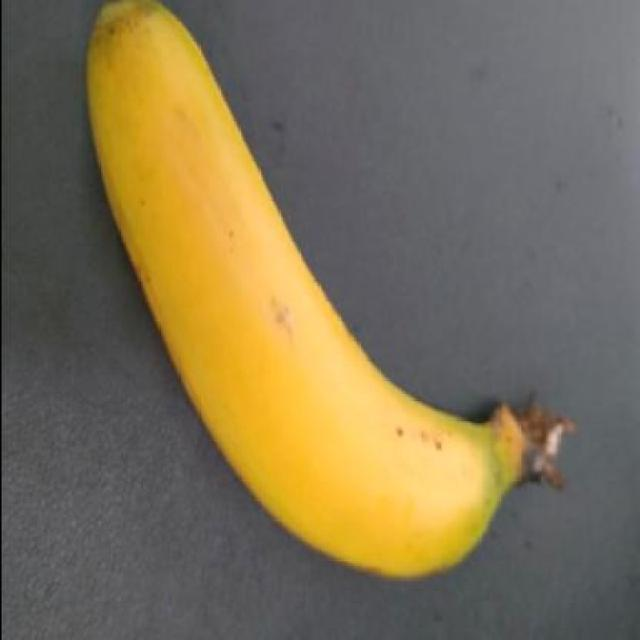Ripe: (42, 0, 583, 595)
